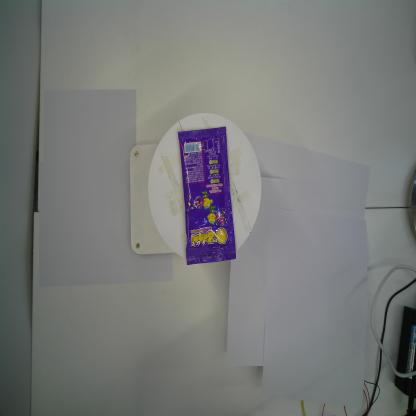Candy: (177, 125, 237, 267)
